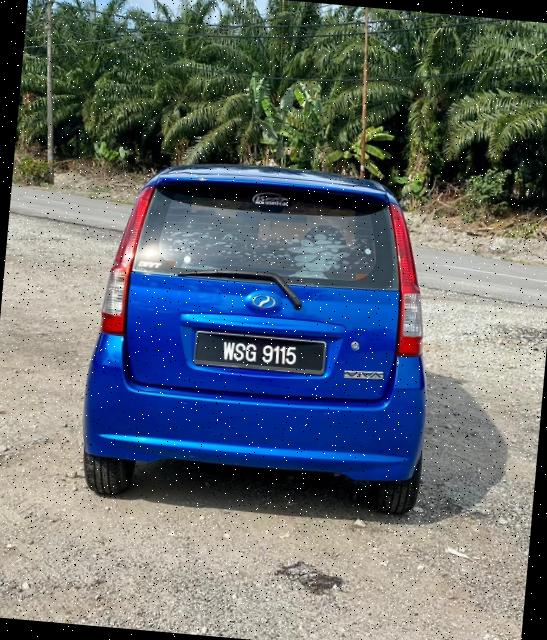License_Plate: (198, 335, 320, 374)
car: (81, 151, 449, 516)
